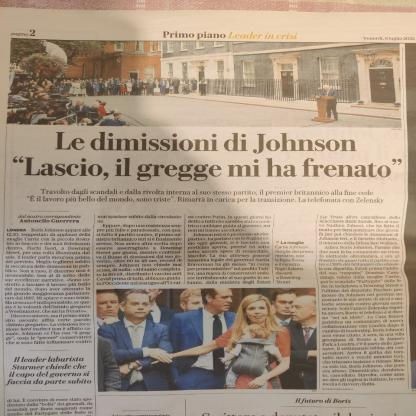immagine: (7, 36, 405, 130), (93, 288, 319, 392)
testo_col: (313, 211, 412, 392), (3, 226, 94, 353), (184, 210, 274, 288), (95, 210, 185, 287)
titolo: (5, 130, 406, 186)
